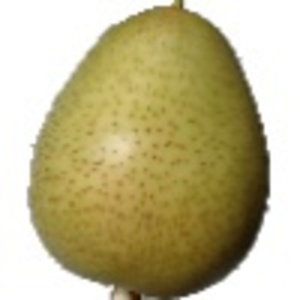pera: (27, 1, 271, 300)
